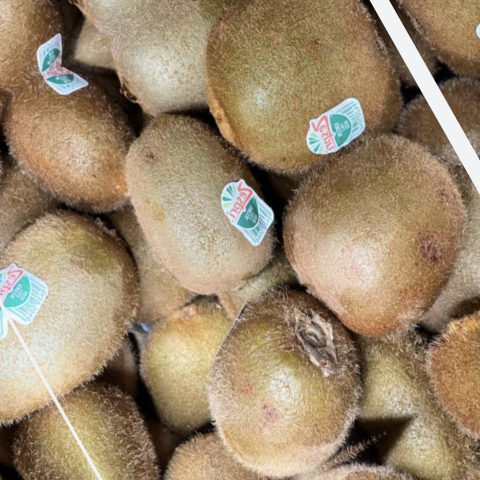kiwi: (228, 90, 480, 374), (151, 0, 435, 224), (148, 255, 428, 480), (77, 83, 314, 344), (0, 168, 177, 406)
